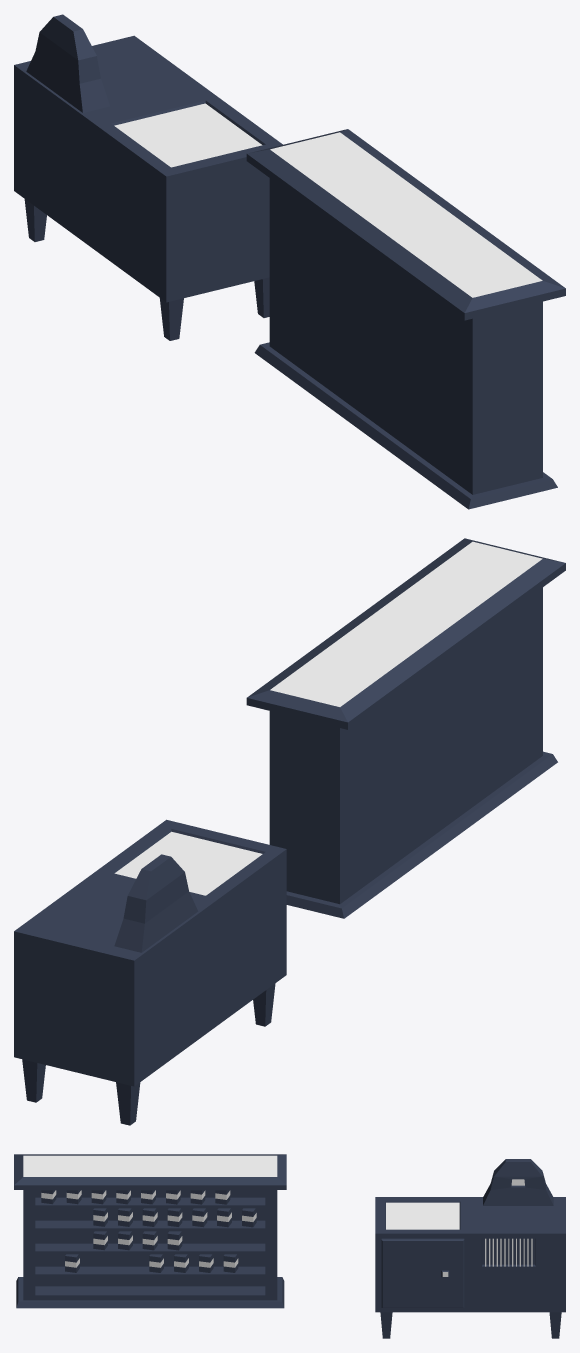
The model's file is assetKitchen.fbx.
3 renders of one model, top to bottom at view 1: azimuth 30°, elevation 25°; view 2: azimuth 150°, elevation 25°; view 3: azimuth 270°, elevation 25°, orthographic. The views are drawn at different scales.
Visible parts, largest first — view 1: Cube.004, Cube; view 2: Cube.004, Cube; view 3: Cube.004, Cube.
Boxes of the visible parts, x1,y1,x2,y2 form: Cube.004: (246,129,565,509); Cube: (14,14,282,340); Cube.004: (246,538,565,918); Cube: (14,819,286,1125); Cube.004: (14,1154,286,1308); Cube: (375,1159,565,1338).
Bounding box in the file's own units: 356 × 679 × 2174.
